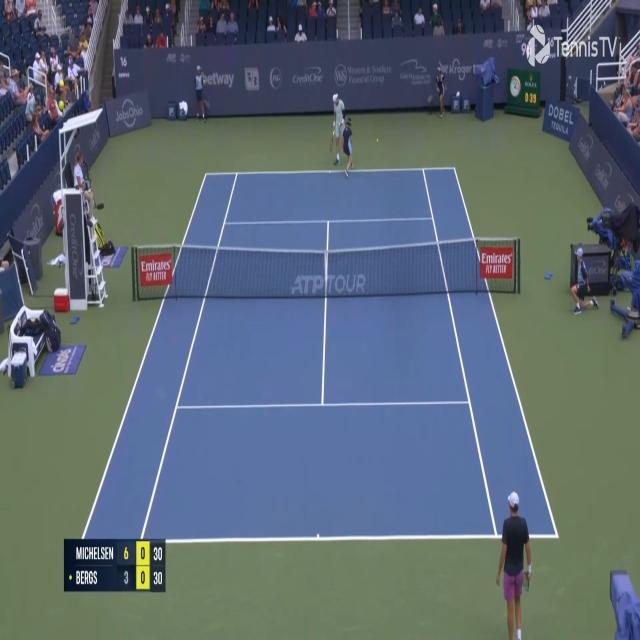tennis-player: (494, 490, 532, 640), (329, 90, 349, 171)
